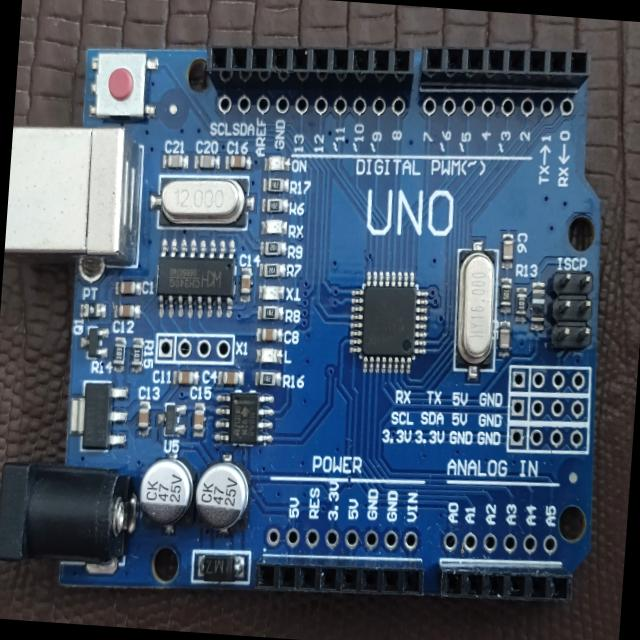arduino: (0, 1, 633, 628)
